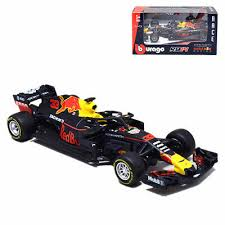FormulaOneCar: (6, 82, 221, 201)
